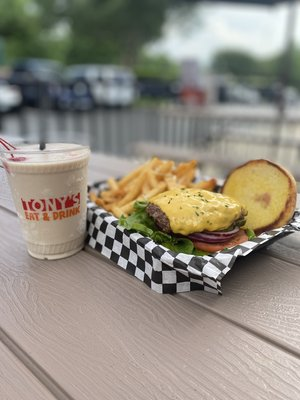pizza: (0, 142, 91, 262)
